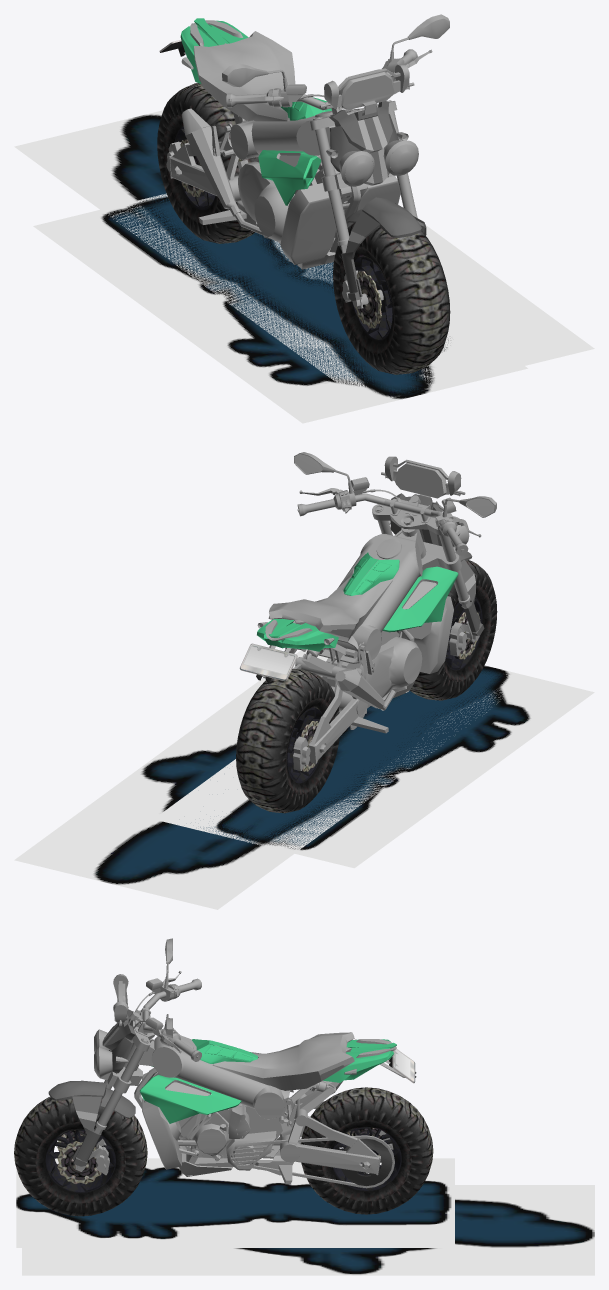
Rendered from bike9_08.fbx.
3 renders of one model, top to bottom at view 1: azimuth 30°, elevation 25°; view 2: azimuth 150°, elevation 25°; view 3: azimuth 270°, elevation 25°, orthographic. The views are drawn at different scales.
Parts seen in each view (by area): view 1: Shadow_SunSet, Shadow_DayLight, Chrome_AI, SteeringLights_AI, Tyre_F, SteeringBody_AI, Tyre_B, Body_AI, Rim_F, Rim_B; view 2: Shadow_DayLight, Shadow_SunSet, Chrome_AI, SteeringLights_AI, Tyre_B, Body_AI, Tyre_F, Plate, SteeringBody_AI, Rim_B, Rim_F, Mirror_AI; view 3: Shadow_DayLight, Shadow_SunSet, Chrome_AI, Tyre_B, Tyre_F, SteeringLights_AI, Body_AI, SteeringBody_AI, Rim_F, Rim_B, Plate.
Boxes of the visible parts, x1=… form: Shadow_SunSet: x1=14, y1=110, x2=594, y2=404; Shadow_DayLight: x1=33, y1=193, x2=527, y2=423; Chrome_AI: x1=166, y1=20, x2=400, y2=269; SteeringLights_AI: x1=222, y1=14, x2=449, y2=308; Tyre_F: x1=333, y1=223, x2=450, y2=374; SteeringBody_AI: x1=329, y1=101, x2=426, y2=300; Tyre_B: x1=157, y1=83, x2=258, y2=243; Body_AI: x1=180, y1=18, x2=331, y2=205; Rim_F: x1=352, y1=256, x2=392, y2=340; Rim_B: x1=174, y1=126, x2=215, y2=210; Shadow_DayLight: x1=154, y1=665, x2=594, y2=868; Shadow_SunSet: x1=14, y1=649, x2=529, y2=909; Chrome_AI: x1=257, y1=530, x2=453, y2=770; SteeringLights_AI: x1=294, y1=452, x2=496, y2=656; Tyre_B: x1=236, y1=669, x2=339, y2=813; Body_AI: x1=257, y1=552, x2=458, y2=651; Tyre_F: x1=397, y1=560, x2=497, y2=700; Plate: x1=239, y1=643, x2=297, y2=681; SteeringBody_AI: x1=390, y1=493, x2=484, y2=635; Rim_B: x1=287, y1=707, x2=322, y2=783; Rim_F: x1=445, y1=597, x2=482, y2=670; Mirror_AI: x1=294, y1=454, x2=494, y2=516; Shadow_DayLight: x1=16, y1=1158, x2=454, y2=1247; Shadow_SunSet: x1=22, y1=1185, x2=594, y2=1275; Chrome_AI: x1=134, y1=1032, x2=405, y2=1188; Tyre_B: x1=300, y1=1087, x2=433, y2=1214; Tyre_F: x1=14, y1=1097, x2=147, y2=1216; SteeringLights_AI: x1=75, y1=938, x2=201, y2=1175; Body_AI: x1=139, y1=1039, x2=396, y2=1123; SteeringBody_AI: x1=48, y1=1009, x2=135, y2=1166; Rim_F: x1=45, y1=1129, x2=115, y2=1192; Rim_B: x1=333, y1=1127, x2=401, y2=1190; Plate: x1=392, y1=1048, x2=415, y2=1083.
Bounding box in the file's own units: 141 × 130 × 295.
